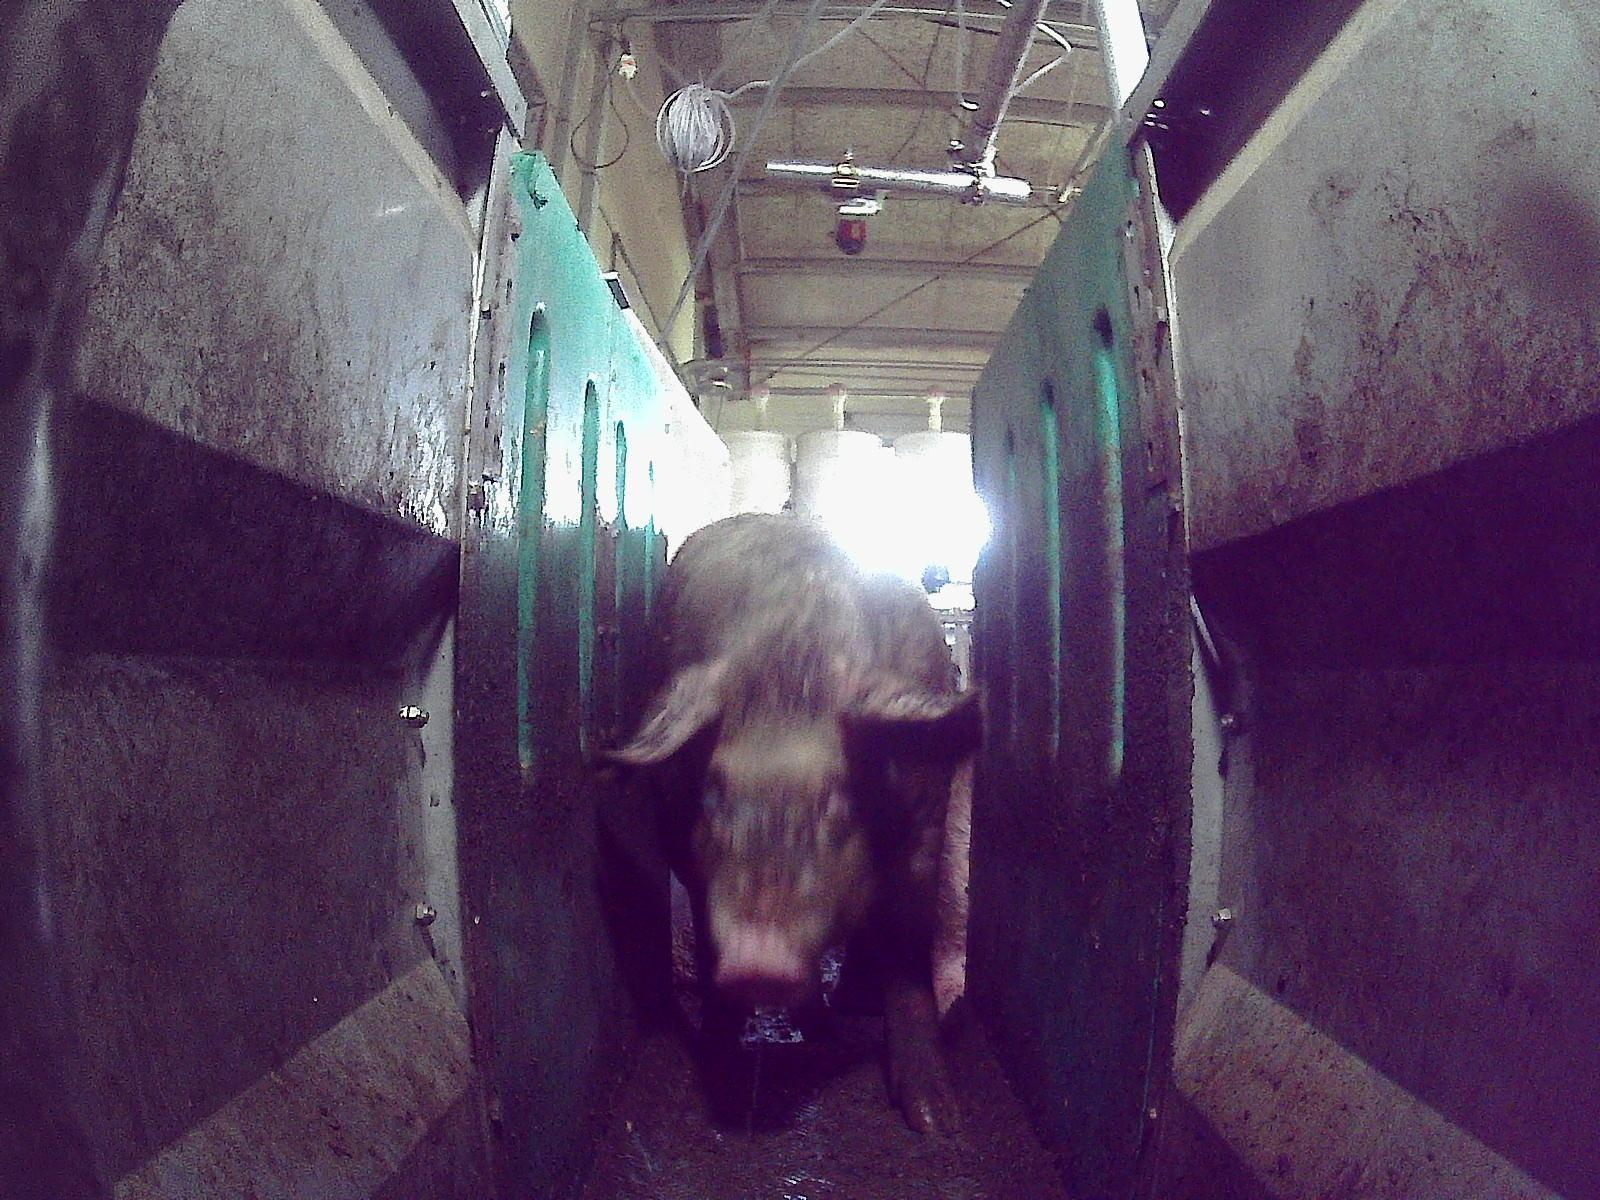Face: (685, 656, 891, 1006)
